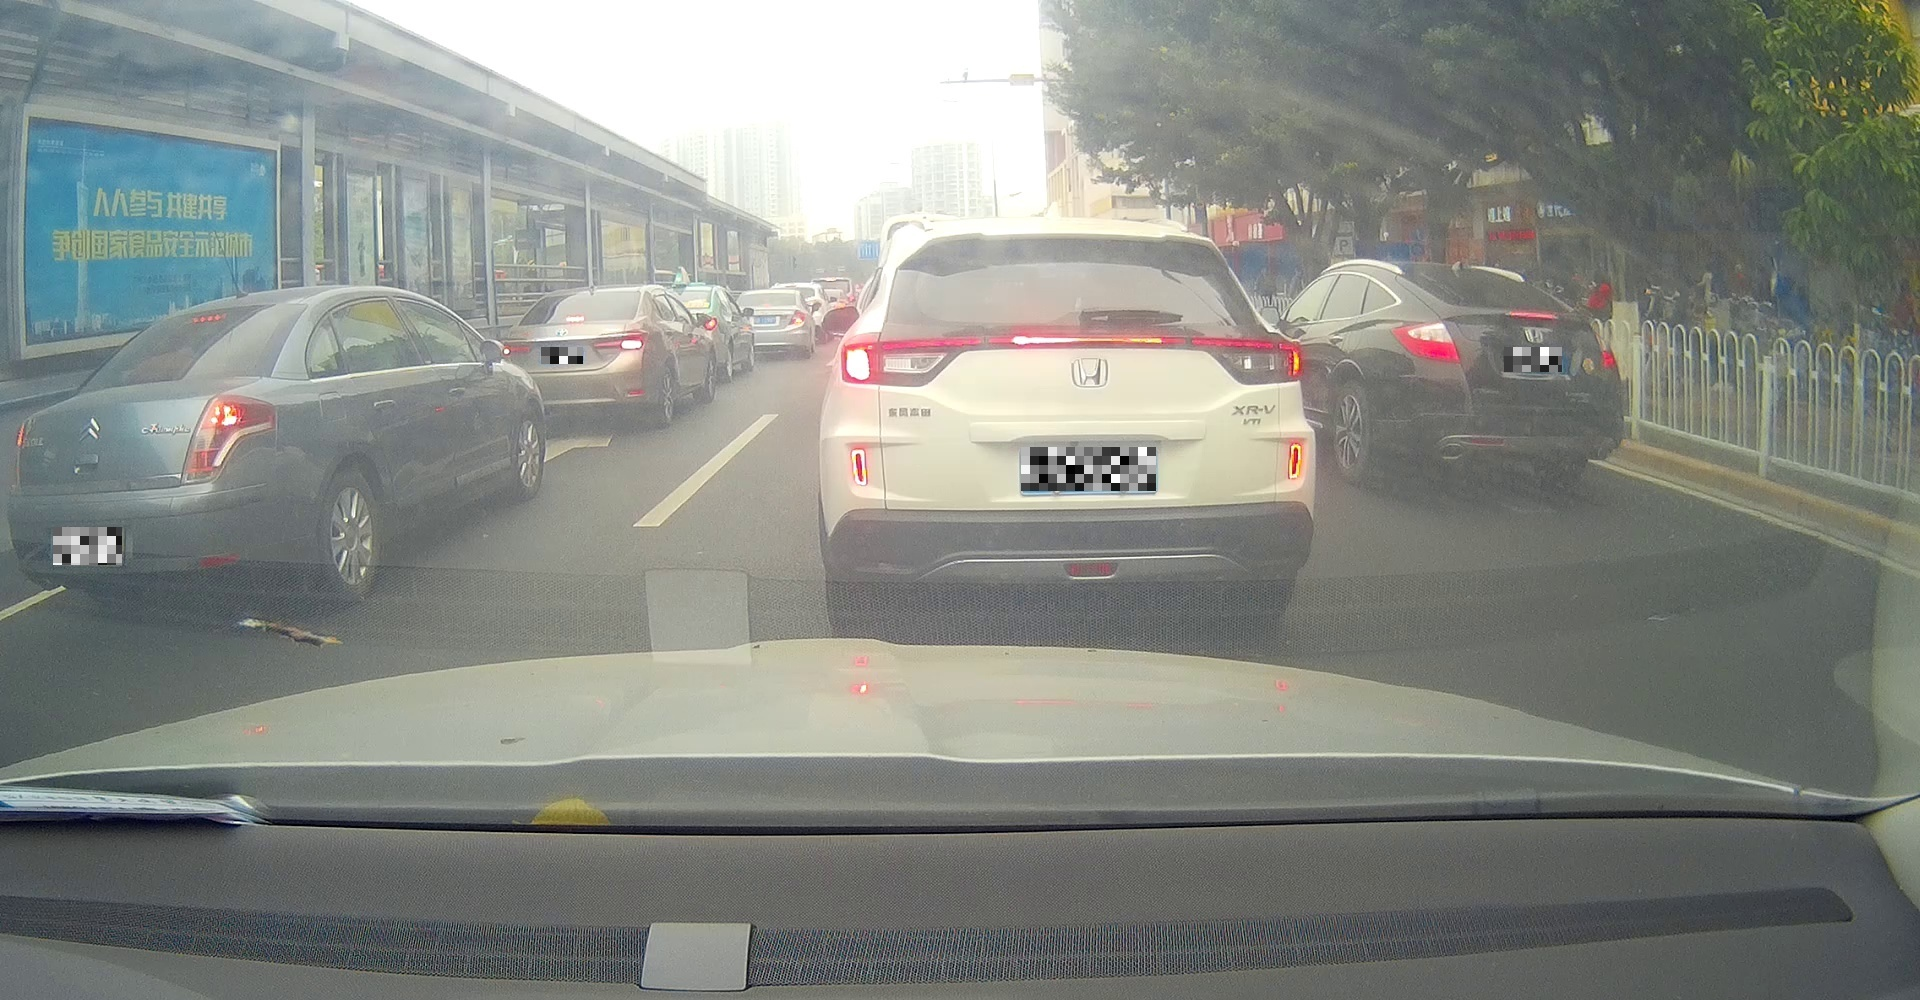L_light: (841, 344, 959, 385), (1390, 319, 1459, 363), (9, 412, 33, 486), (502, 338, 530, 354)
R_light: (177, 393, 277, 485), (1208, 338, 1305, 385), (593, 327, 648, 352), (1596, 332, 1619, 373)
T_light: (1012, 335, 1079, 344), (190, 308, 226, 325), (1509, 311, 1557, 320), (564, 316, 584, 324)
day-brake: (823, 216, 1316, 629), (8, 291, 312, 607), (1384, 261, 1624, 495), (497, 284, 655, 423)
plate_1: (53, 527, 122, 565)
plate_2: (541, 346, 583, 364)
plate_3: (1021, 447, 1156, 491)
plate_4: (1503, 346, 1562, 372)
